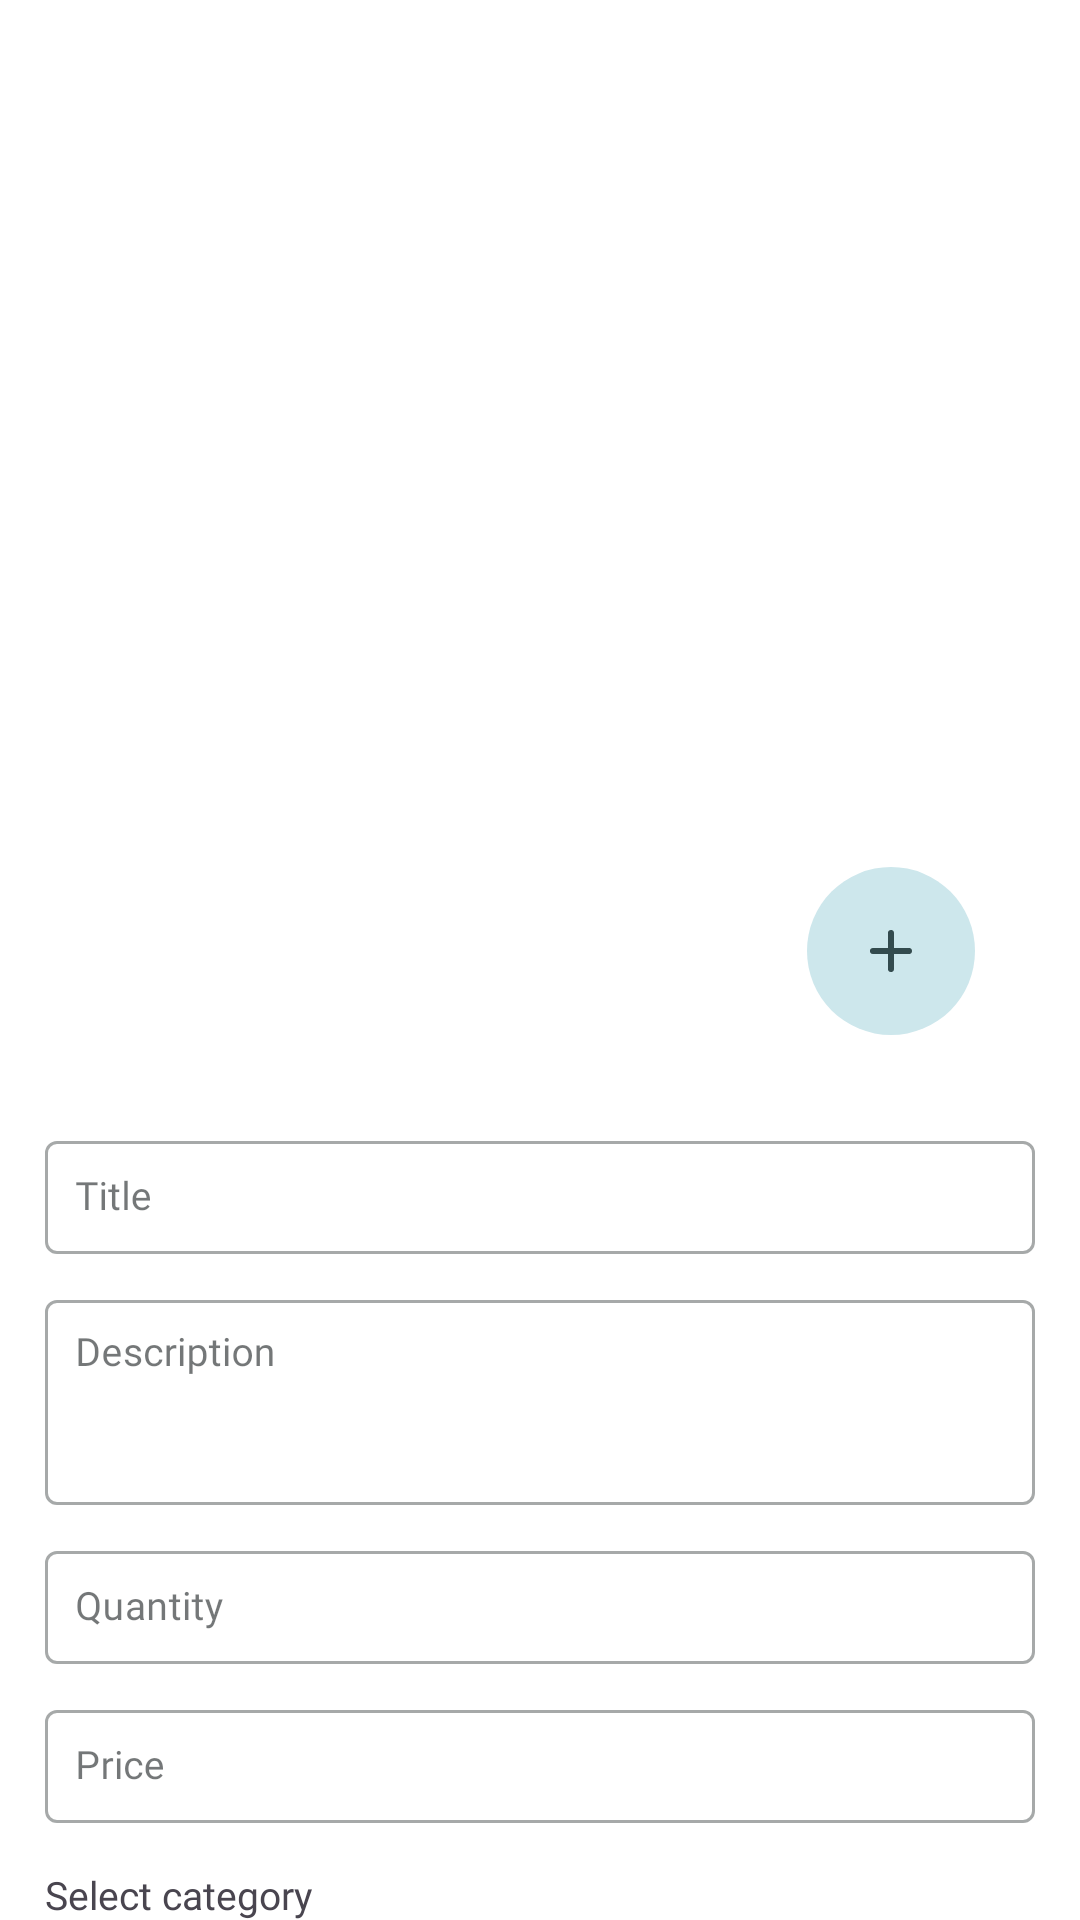

Named icons in this screenshot (1080px×1920px) and their bounding boxes, (x1, y1, x2, y2):
plusicon: (807, 867, 975, 1035)
